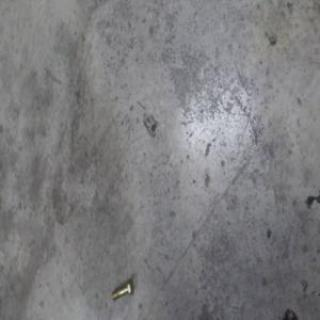Bolttrack_idkeyframe: (112, 280, 136, 304)
